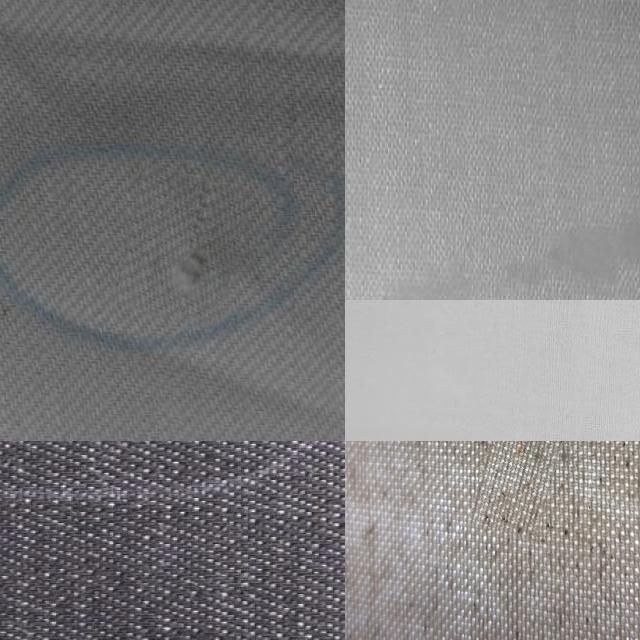Hole: (345, 151, 640, 300)
Thread_other: (115, 170, 243, 326), (490, 441, 607, 540)
